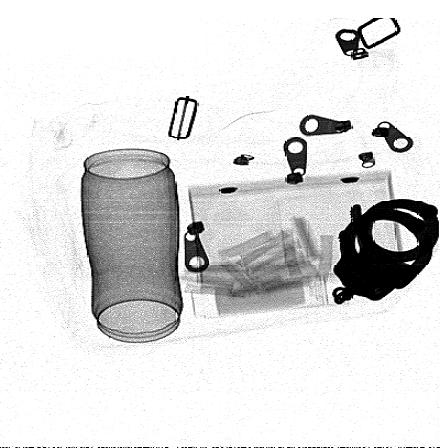HandCuffs: (332, 198, 439, 305)
